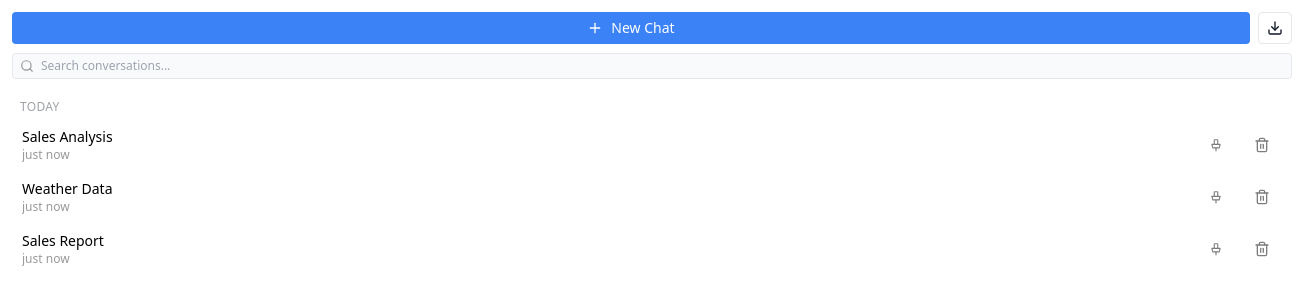
Test: CS-3: Typing filters conversations by title › filters conversations to only show matching titles
The width and height of the screenshot is (1304, 283).
Expected: the text "Sales Analysis" is shown, x1=22 y1=127 x2=113 y2=146
In the field with test id "conversation-search": (652, 66) x1=12 y1=53 x2=1292 y2=79, type "Sales"
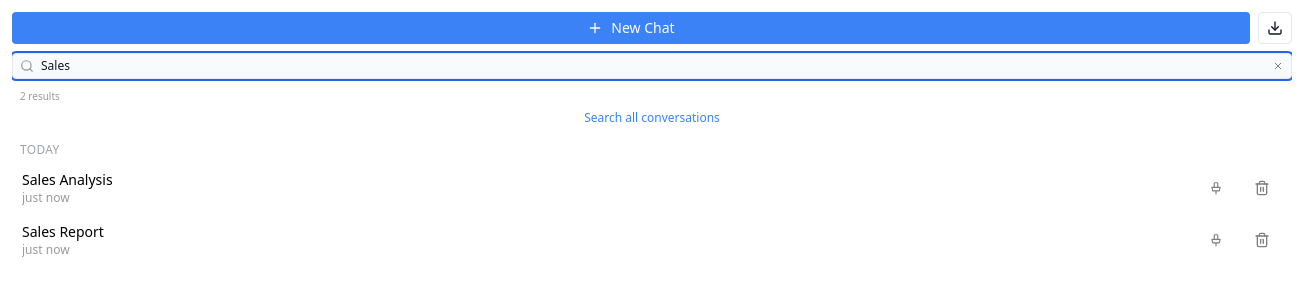
Expected: the text "Sales Analysis" is shown, x1=22 y1=170 x2=113 y2=189
Expected: the text "Weather Data" is gone
